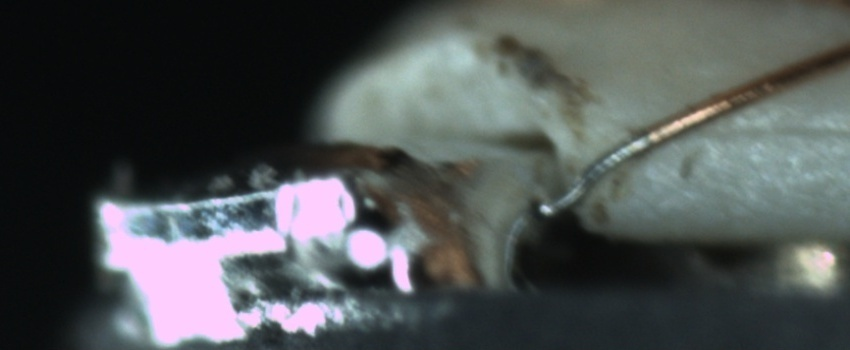DL: (695, 99, 849, 161)
TS: (547, 136, 651, 217)
TTCW: (545, 123, 665, 218)
